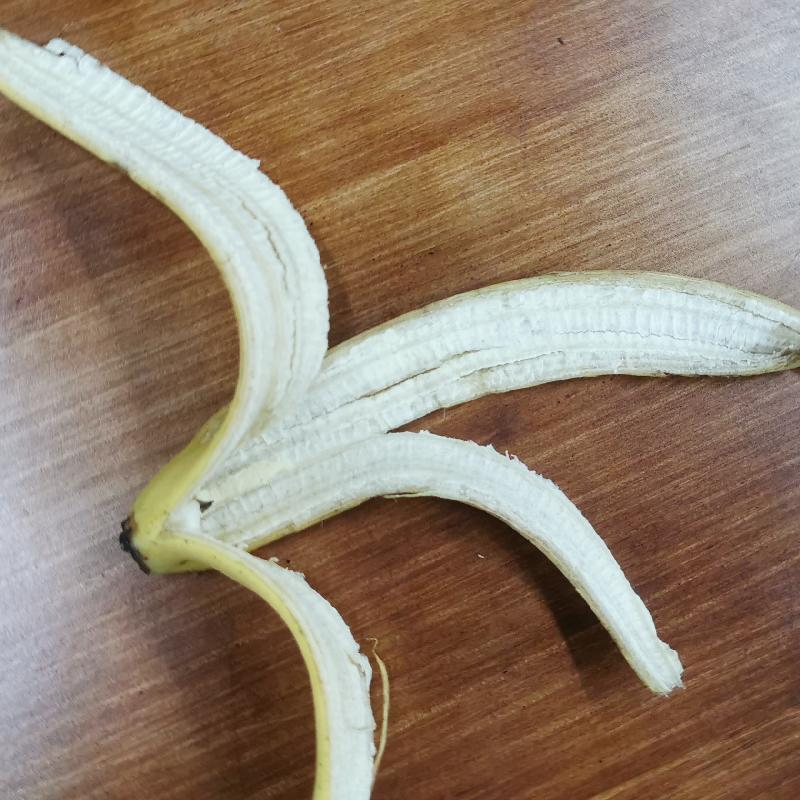bananas: (1, 10, 799, 799)
